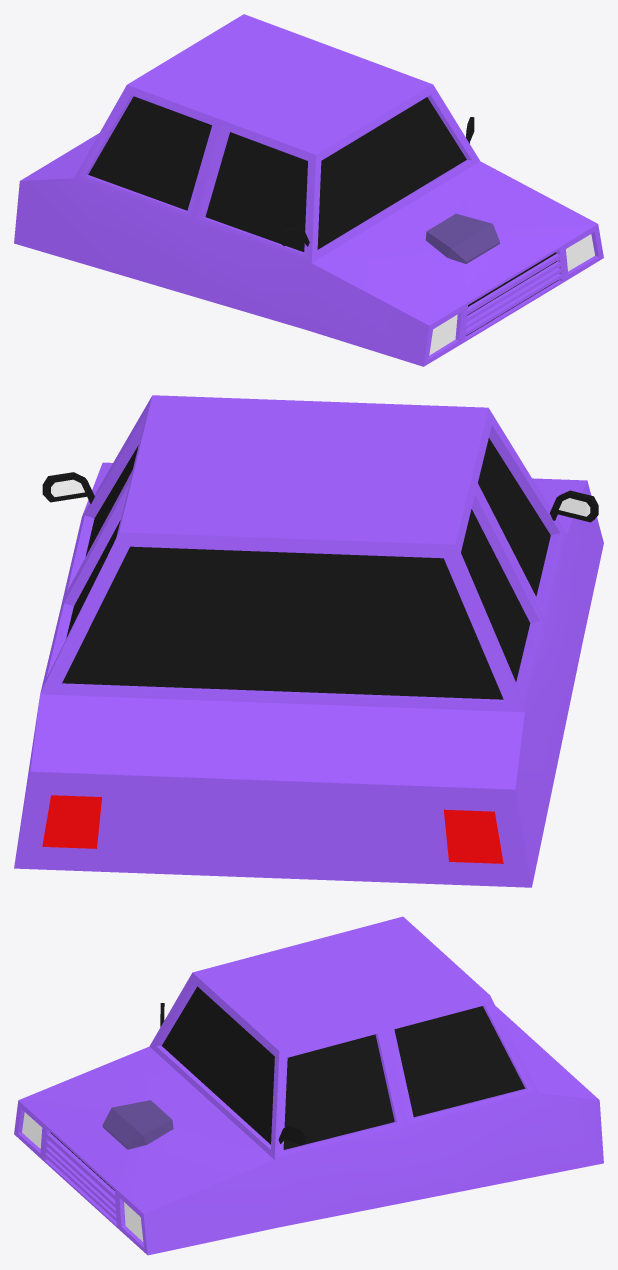
File: object_26.001_lev1.glb
The picture shows the model from 3 angles, top to bottom: view 1: azimuth 30°, elevation 25°; view 2: azimuth 150°, elevation 25°; view 3: azimuth 270°, elevation 25°; orthographic projection. The views are drawn at different scales.
Parts seen in each view (by area): view 1: object_26.001_lev1; view 2: object_26.001_lev1; view 3: object_26.001_lev1.
Part boxes in pixels (x1,y1,x2,y2): object_26.001_lev1: [14, 14, 603, 366]; object_26.001_lev1: [14, 395, 603, 887]; object_26.001_lev1: [14, 916, 603, 1255].
Size of the model in its own units: 1 by 0.3706 by 1.19.
1 material, 1 textured.
